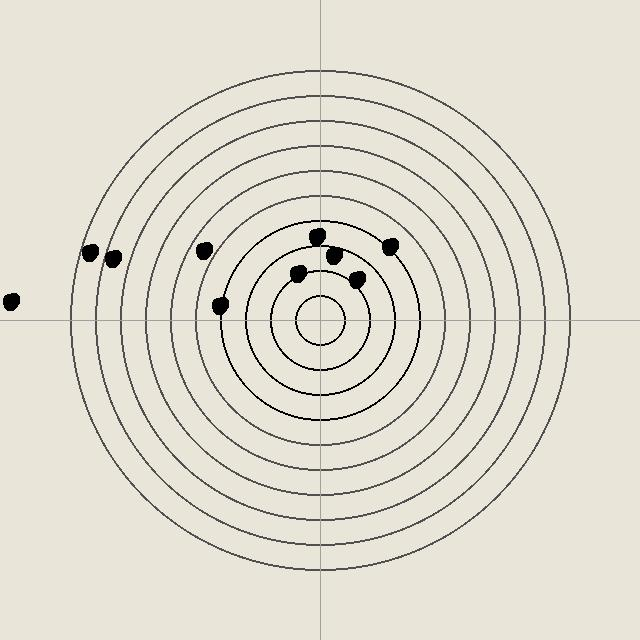horizontal_scatter: (102, 248, 122, 268), (79, 242, 99, 262), (287, 263, 307, 283), (209, 295, 229, 315), (306, 226, 326, 246), (379, 236, 399, 256), (193, 240, 213, 260), (346, 269, 366, 289), (0, 291, 20, 311), (323, 245, 343, 265)
